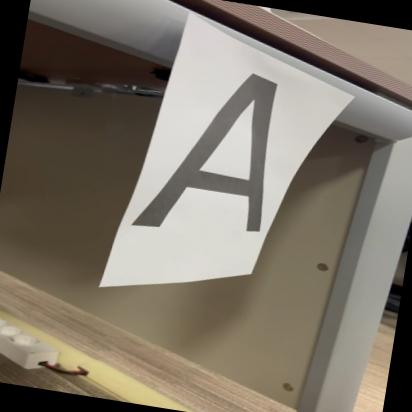seat: (117, 61, 312, 277)
